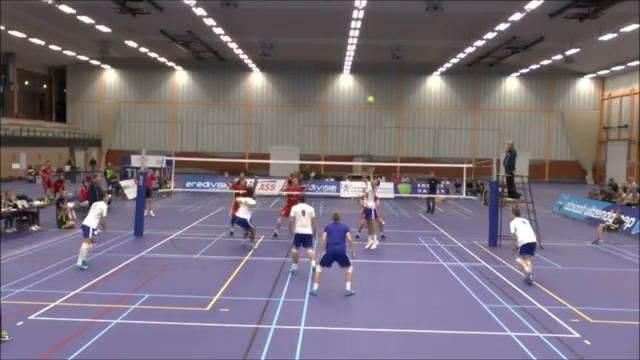Player: (310, 211, 354, 295), (77, 193, 107, 269), (289, 193, 315, 273), (273, 176, 306, 238), (510, 206, 536, 284), (224, 173, 247, 235), (235, 187, 256, 249), (375, 196, 385, 239), (234, 172, 246, 183)
Set: (356, 167, 383, 253)
ball: (365, 94, 374, 104)
